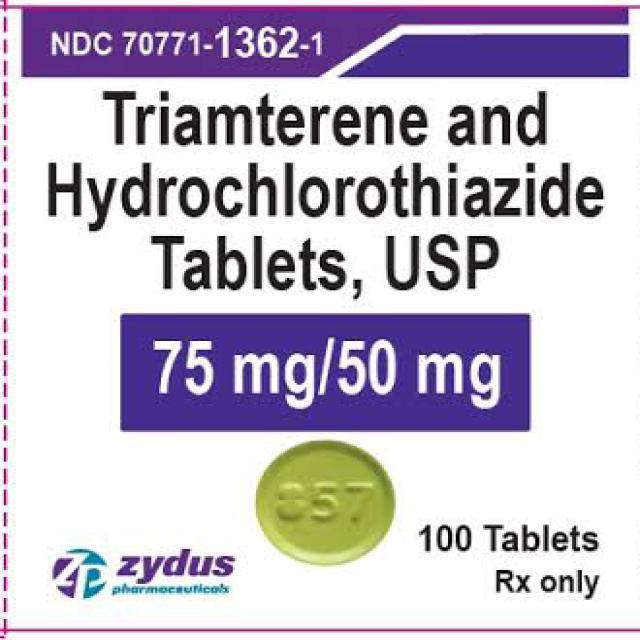drug-name: (93, 84, 429, 150)
